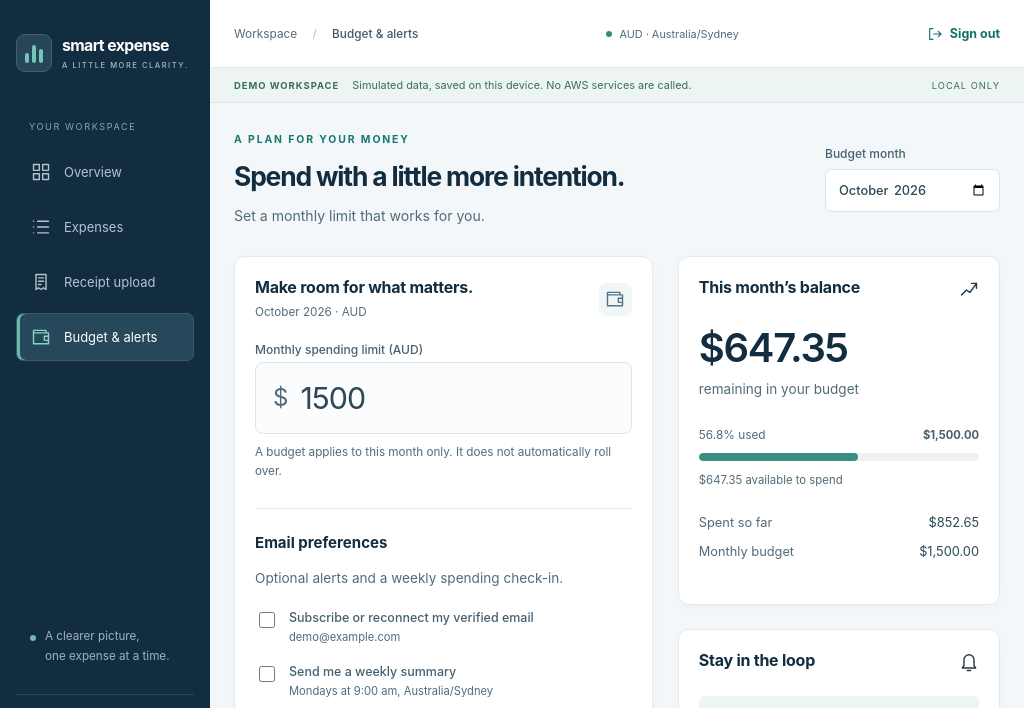
Scenario: budget and receipt pages › updates the selected month budget
Replace the text in the field labelled "Monthly spending limit (AUD)" with "1800". click: [460, 398]
box: [288,363,631,433]
(page scrolled)
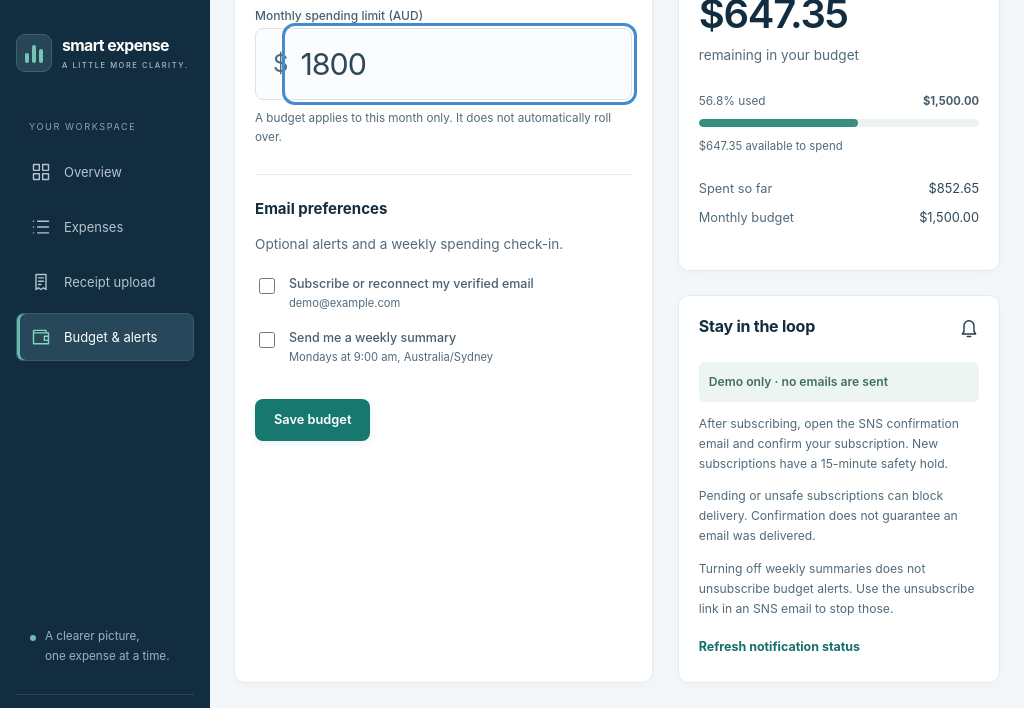
Click the button "Save budget". click: [313, 420]
box: [255,399,370,441]
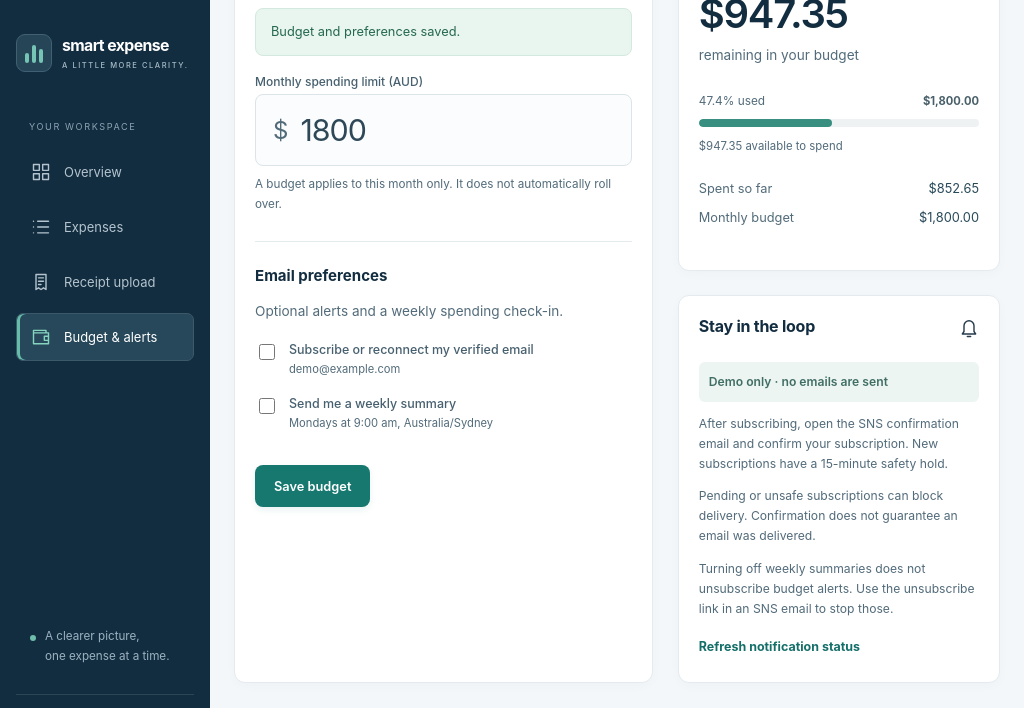
Result: the text "Budget and preferences saved." is shown at [255,8,632,56]
